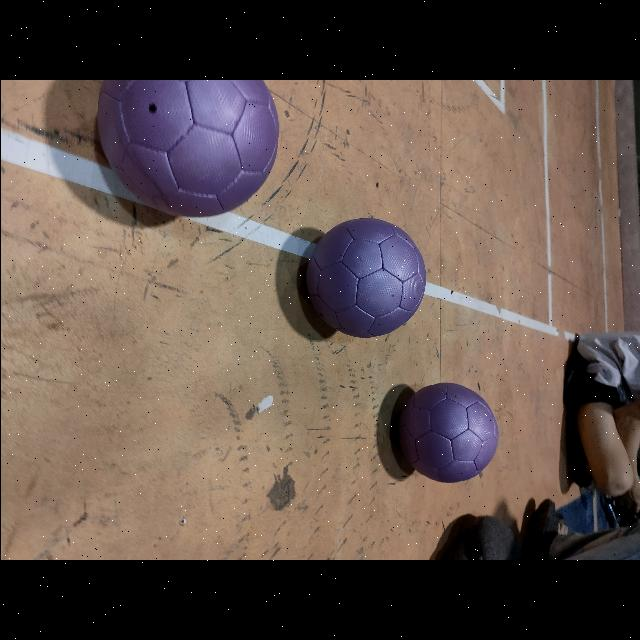P: (98, 80, 278, 218), (306, 218, 426, 338), (398, 383, 498, 482)
